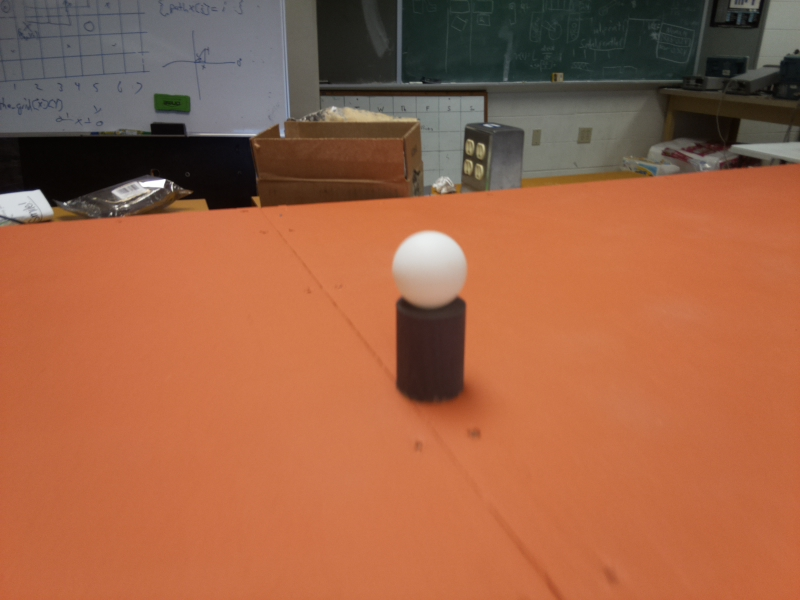obstacle: (393, 231, 469, 400)
